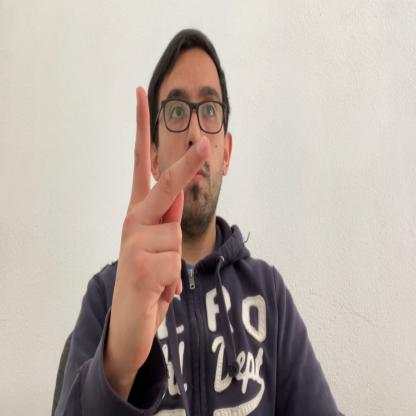P: (112, 87, 210, 387)
